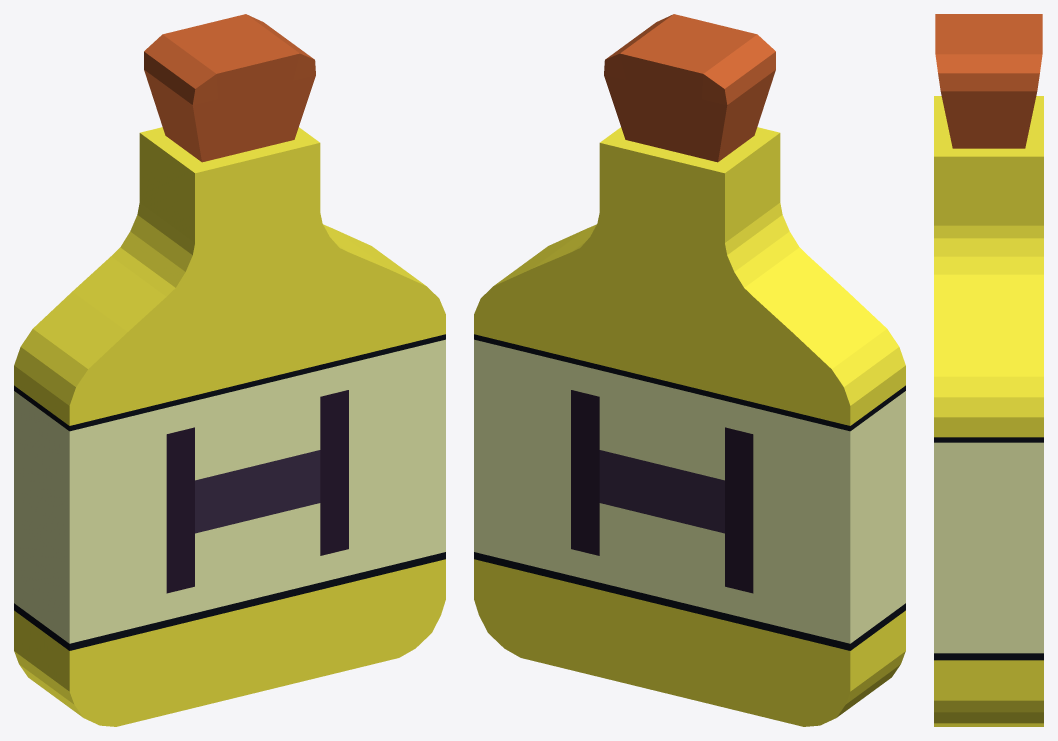
Rendered from StrengthPotion.fbx.
3 views of the same model, side by side, from view 1: azimuth 30°, elevation 25°; view 2: azimuth 150°, elevation 25°; view 3: azimuth 270°, elevation 25° (orthographic).
Visible parts, largest first — view 1: Cube; view 2: Cube; view 3: Cube.
Boxes of the visible parts, bbox=[...] form: Cube: bbox=[14, 14, 445, 726]; Cube: bbox=[474, 14, 905, 726]; Cube: bbox=[934, 14, 1043, 726].
Bounding box in the file's own units: 837 × 1335 × 214.
